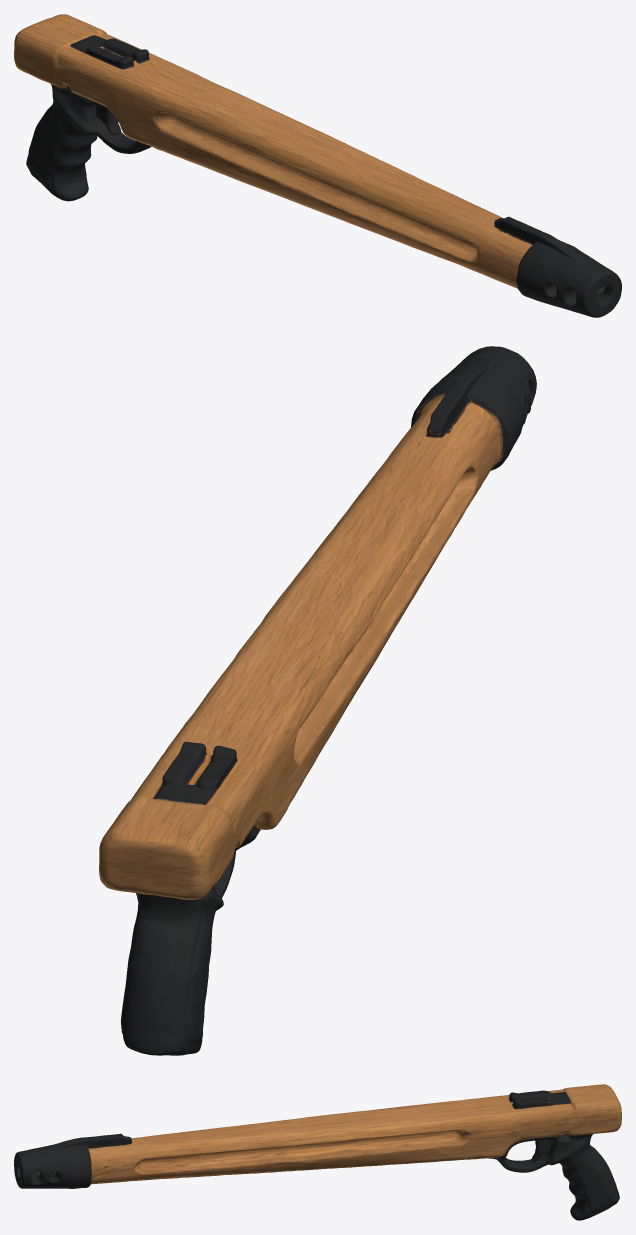
The model's file is wood.glb.
3 views of the same model, one above another, from view 1: azimuth 30°, elevation 25°; view 2: azimuth 150°, elevation 25°; view 3: azimuth 270°, elevation 25° (orthographic). The views are drawn at different scales.
Parts seen in each view (by area): view 1: tripo_node_c7ce8117-ad5c-430a-b2db-aa3a00b35d26; view 2: tripo_node_c7ce8117-ad5c-430a-b2db-aa3a00b35d26; view 3: tripo_node_c7ce8117-ad5c-430a-b2db-aa3a00b35d26.
Part boxes in pixels (<box>): tripo_node_c7ce8117-ad5c-430a-b2db-aa3a00b35d26: <box>14,14,621,317</box>; tripo_node_c7ce8117-ad5c-430a-b2db-aa3a00b35d26: <box>99,346,536,1055</box>; tripo_node_c7ce8117-ad5c-430a-b2db-aa3a00b35d26: <box>14,1084,621,1220</box>.
Bounding box in the file's own units: 0.3054 × 0.2313 × 0.983.
Materials: 1 (1 with a texture image).
